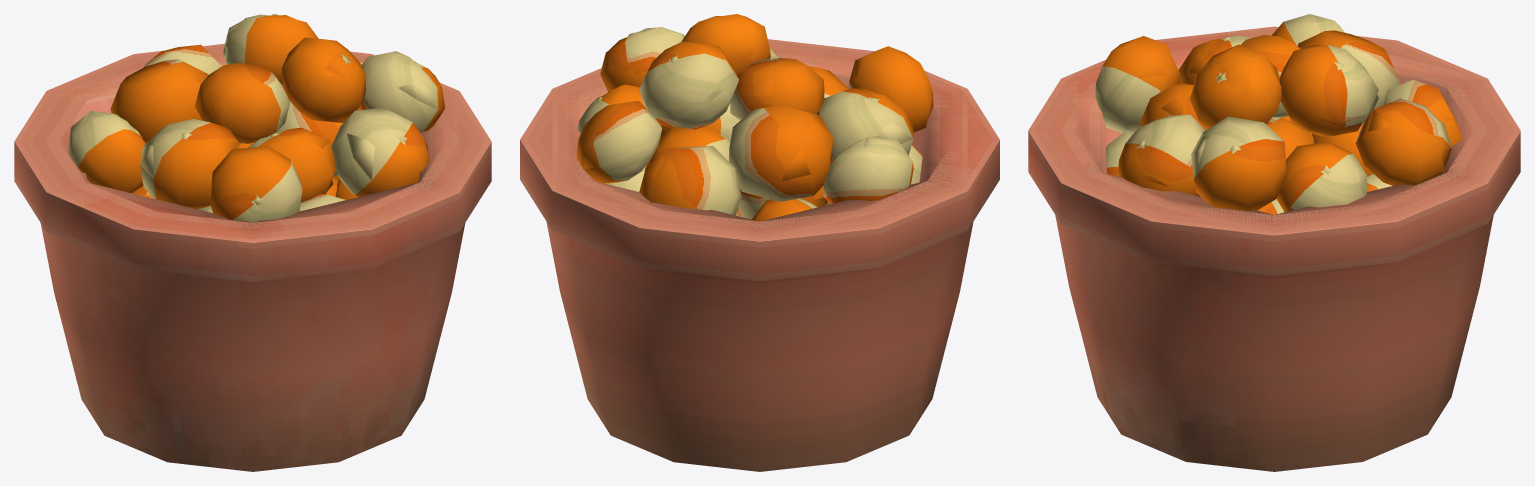
Rendered from objects_un_unglazed_bowl01.gltf.
3 renders of one model, left to right at view 1: azimuth 30°, elevation 25°; view 2: azimuth 150°, elevation 25°; view 3: azimuth 270°, elevation 25°, orthographic. The views are drawn at different scales.
Parts seen in each view (by area): view 1: um_objects_un_unglazed_bowl01_model_lod0Shape:objects_un_ung (×2), um_objects_un_unglazed_bowl01_model_lod2Shape:objects_un_ung (×2); view 2: um_objects_un_unglazed_bowl01_model_lod0Shape:objects_un_ung (×2), um_objects_un_unglazed_bowl01_model_lod2Shape:objects_un_ung (×2), um_objects_un_unglazed_bowl01_model_lod1Shape:objects_un_ung; view 3: um_objects_un_unglazed_bowl01_model_lod0Shape:objects_un_ung (×2), um_objects_un_unglazed_bowl01_model_lod2Shape:objects_un_ung (×2).
Part boxes in pixels (<box>): um_objects_un_unglazed_bowl01_model_lod0Shape:objects_un_ung (×2): <box>14,14,491,471</box>; um_objects_un_unglazed_bowl01_model_lod2Shape:objects_un_ung (×2): <box>46,41,459,241</box>; um_objects_un_unglazed_bowl01_model_lod0Shape:objects_un_ung (×2): <box>520,14,999,471</box>; um_objects_un_unglazed_bowl01_model_lod2Shape:objects_un_ung (×2): <box>552,23,967,240</box>; um_objects_un_unglazed_bowl01_model_lod1Shape:objects_un_ung: <box>641,87,721,121</box>; um_objects_un_unglazed_bowl01_model_lod0Shape:objects_un_ung (×2): <box>1028,14,1520,471</box>; um_objects_un_unglazed_bowl01_model_lod2Shape:objects_un_ung (×2): <box>1061,20,1487,234</box>.
Size of the model in its own units: 0.8894 by 0.7344 by 0.8893.
2 materials, 2 textured.
